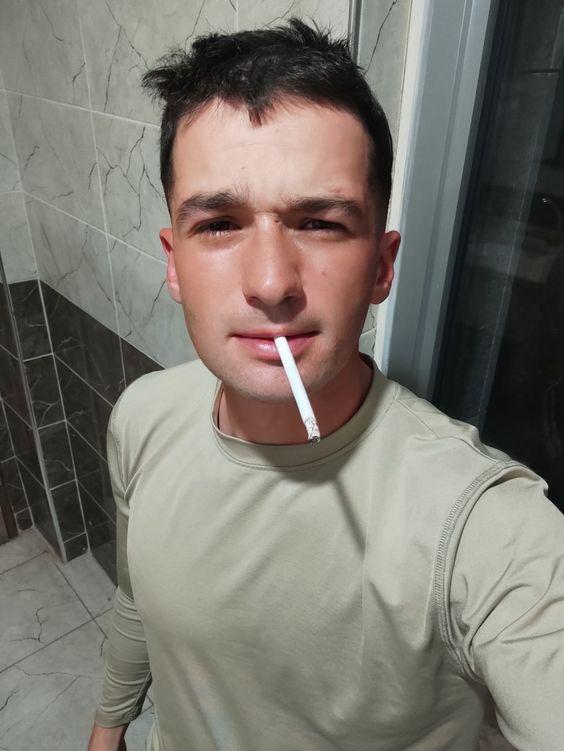cigarette: (272, 336, 321, 444)
